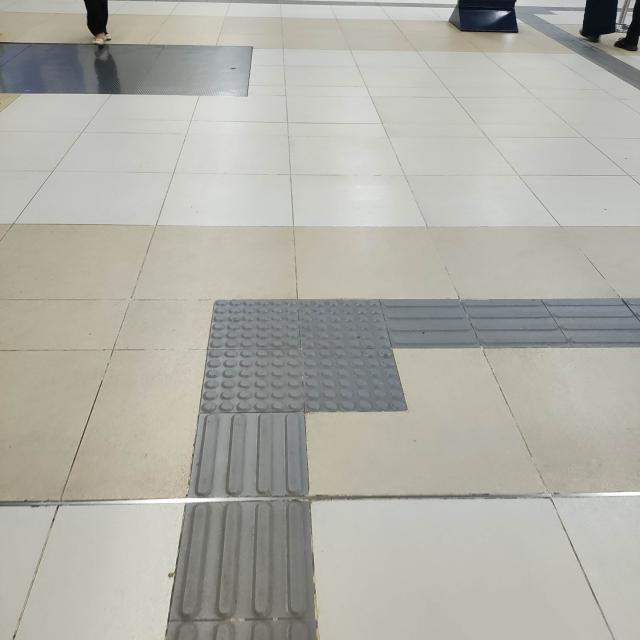kanan: (150, 251, 576, 436)
